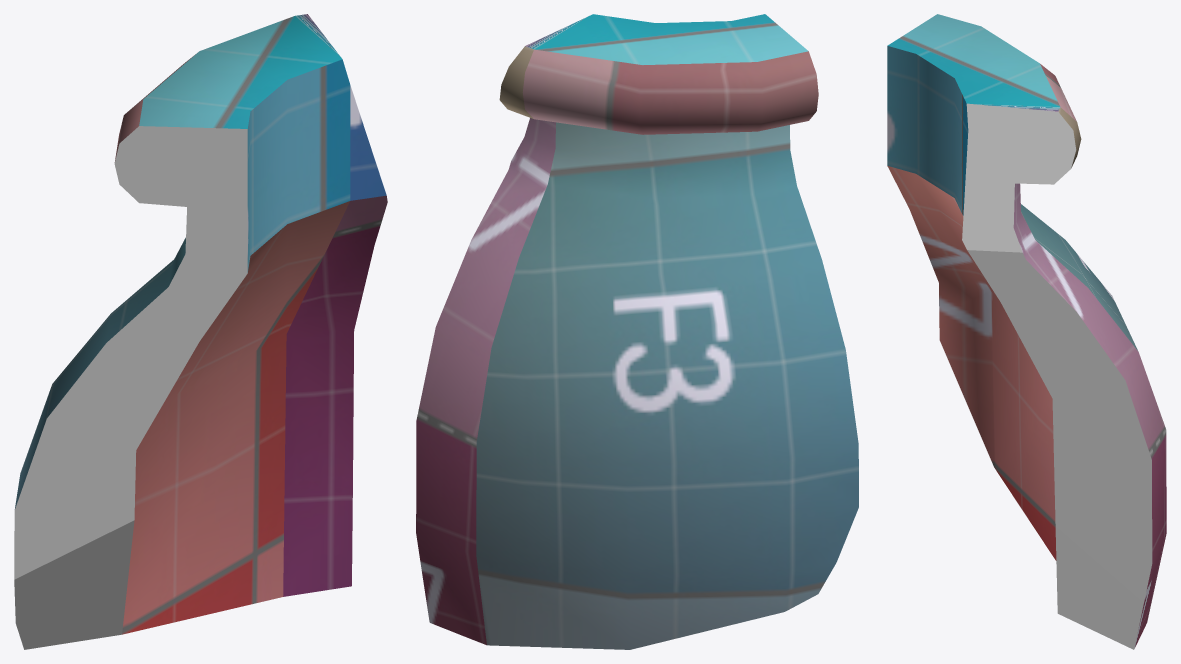
The model's file is RoundVase_SHAT_cell.fbx.
The picture shows the model from 3 angles, left to right: view 1: azimuth 30°, elevation 25°; view 2: azimuth 150°, elevation 25°; view 3: azimuth 270°, elevation 25°; orthographic projection. The views are drawn at different scales.
Visible parts, largest first — view 1: RoundVase_SHAT_cell.012; view 2: RoundVase_SHAT_cell.012; view 3: RoundVase_SHAT_cell.012.
Boxes of the visible parts, left/top/right/bottom form: RoundVase_SHAT_cell.012: left=14, top=14, right=387, bottom=649; RoundVase_SHAT_cell.012: left=416, top=14, right=858, bottom=649; RoundVase_SHAT_cell.012: left=887, top=14, right=1166, bottom=649.
Size of the model in its own units: 0.4134 by 0.6205 by 0.3049.
2 materials, 1 textured.
